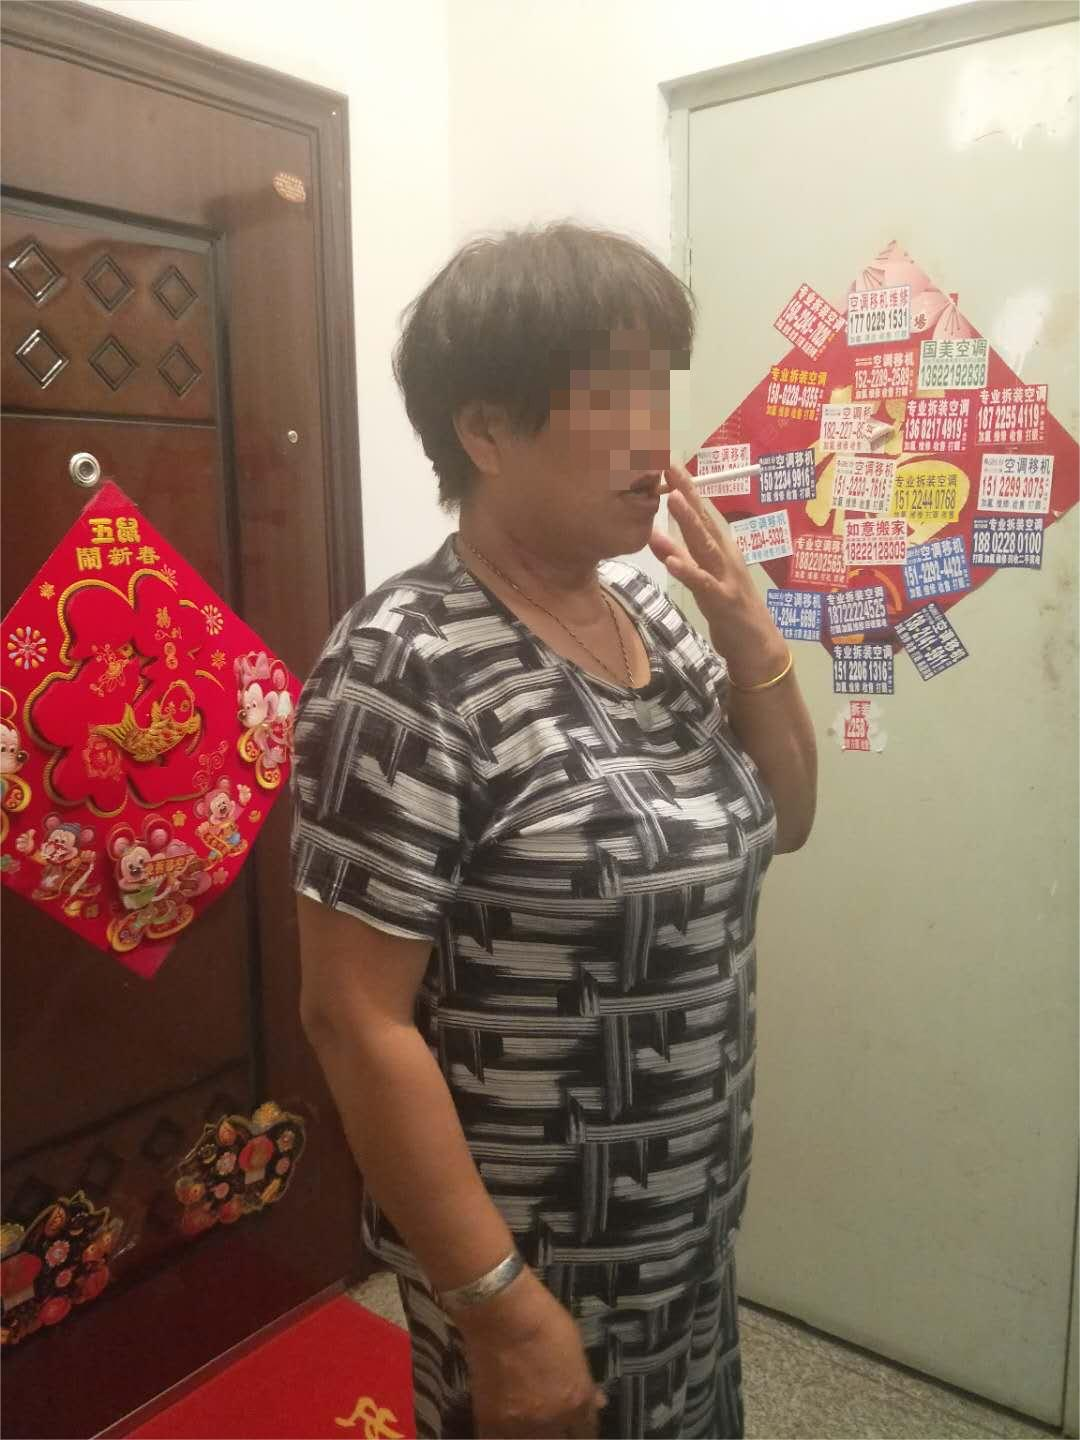smoke: (659, 458, 771, 495)
